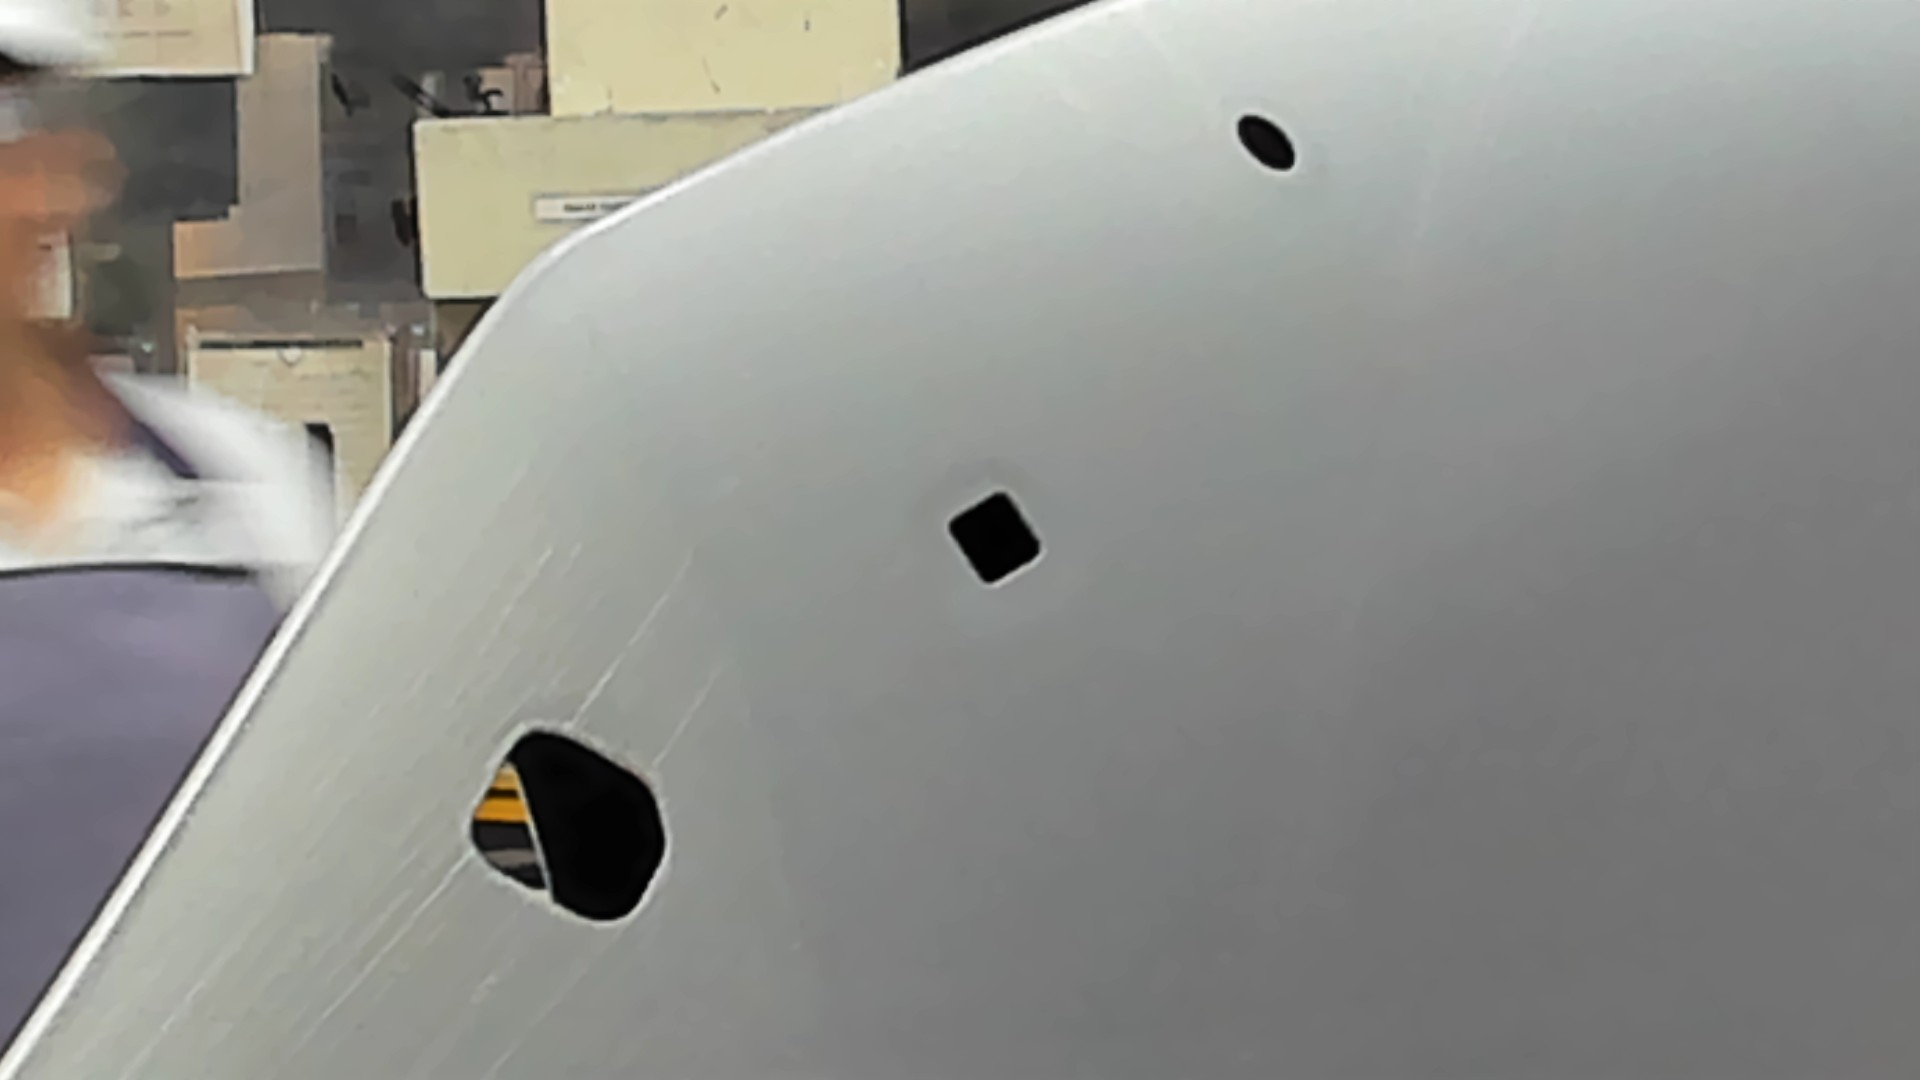chico: (1232, 105, 1300, 177)
grande: (459, 715, 675, 938)
mediano: (938, 479, 1055, 596)
